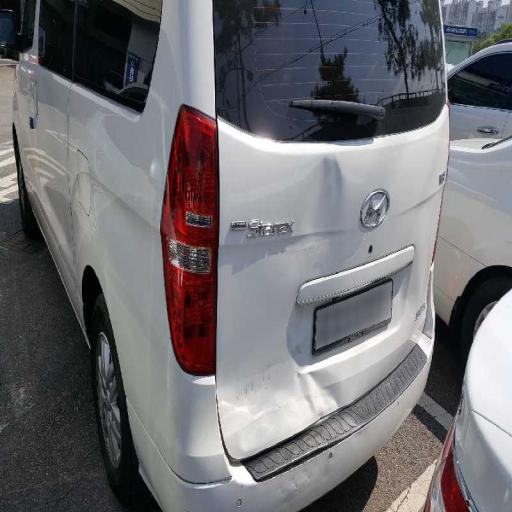dent: (181, 328, 432, 468), (34, 124, 151, 241)
